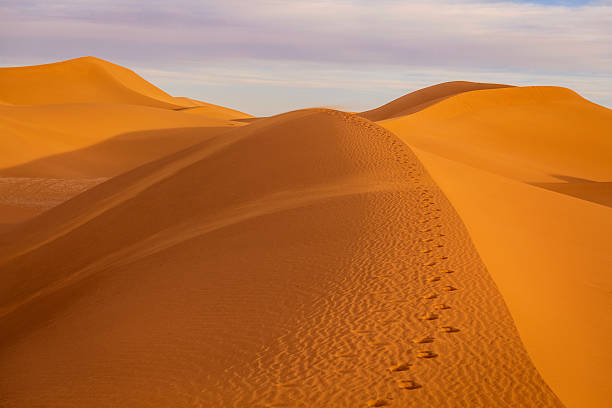animal_footprint: (351, 327, 388, 348), (362, 275, 392, 298), (421, 200, 437, 219), (371, 275, 392, 288), (397, 379, 421, 389), (419, 174, 430, 195), (389, 139, 402, 156), (415, 170, 426, 190), (391, 140, 403, 157), (391, 139, 403, 156), (391, 139, 401, 157), (388, 363, 410, 371), (265, 401, 290, 408), (367, 398, 388, 406), (333, 350, 357, 357), (415, 171, 423, 191), (422, 180, 432, 196), (392, 144, 401, 161), (417, 350, 436, 358), (372, 270, 393, 277), (413, 336, 433, 343), (419, 173, 427, 190), (412, 169, 420, 185), (405, 159, 413, 175), (368, 340, 389, 346), (400, 149, 409, 163), (397, 149, 407, 161), (439, 326, 459, 332), (334, 353, 357, 358), (276, 382, 299, 387), (417, 175, 423, 194), (417, 196, 431, 204), (420, 313, 438, 319), (422, 292, 437, 299), (402, 151, 410, 164), (336, 368, 353, 374), (378, 132, 392, 139), (418, 219, 430, 227), (434, 303, 450, 309), (371, 290, 390, 295), (420, 180, 427, 193), (441, 285, 456, 291), (390, 298, 408, 303), (421, 180, 430, 190), (420, 187, 430, 196), (351, 329, 373, 333), (371, 307, 388, 312), (420, 190, 429, 199), (423, 188, 432, 197), (381, 319, 397, 324), (372, 274, 392, 278), (397, 155, 407, 163), (409, 164, 417, 173), (408, 167, 415, 177), (427, 276, 440, 281), (408, 165, 416, 173), (409, 171, 416, 180), (409, 167, 416, 176), (413, 169, 420, 178), (414, 181, 420, 191), (422, 183, 428, 193), (422, 202, 430, 209), (408, 171, 415, 179), (396, 155, 403, 163), (419, 218, 430, 223), (419, 189, 425, 198), (440, 269, 453, 273), (409, 176, 416, 183), (410, 164, 417, 171), (410, 172, 416, 180), (421, 194, 429, 200), (423, 261, 435, 265), (407, 167, 412, 176), (421, 198, 430, 203), (422, 238, 433, 242), (420, 248, 431, 252), (415, 174, 420, 182), (433, 243, 443, 247), (407, 166, 412, 174), (427, 191, 433, 197), (421, 189, 427, 195), (409, 164, 415, 170), (407, 171, 413, 177), (428, 200, 435, 205), (419, 181, 424, 188), (423, 211, 431, 215), (398, 159, 406, 163), (417, 174, 421, 182), (439, 255, 447, 259), (391, 140, 397, 145), (395, 152, 400, 158), (421, 182, 426, 188), (396, 157, 402, 162), (420, 228, 430, 231), (421, 183, 426, 189), (430, 216, 439, 219), (435, 233, 444, 236), (423, 203, 429, 207), (416, 185, 420, 191), (434, 224, 441, 227), (409, 165, 414, 169), (411, 177, 416, 181), (416, 185, 421, 189), (428, 194, 433, 198), (402, 160, 408, 163), (410, 177, 416, 180), (434, 208, 440, 211)
